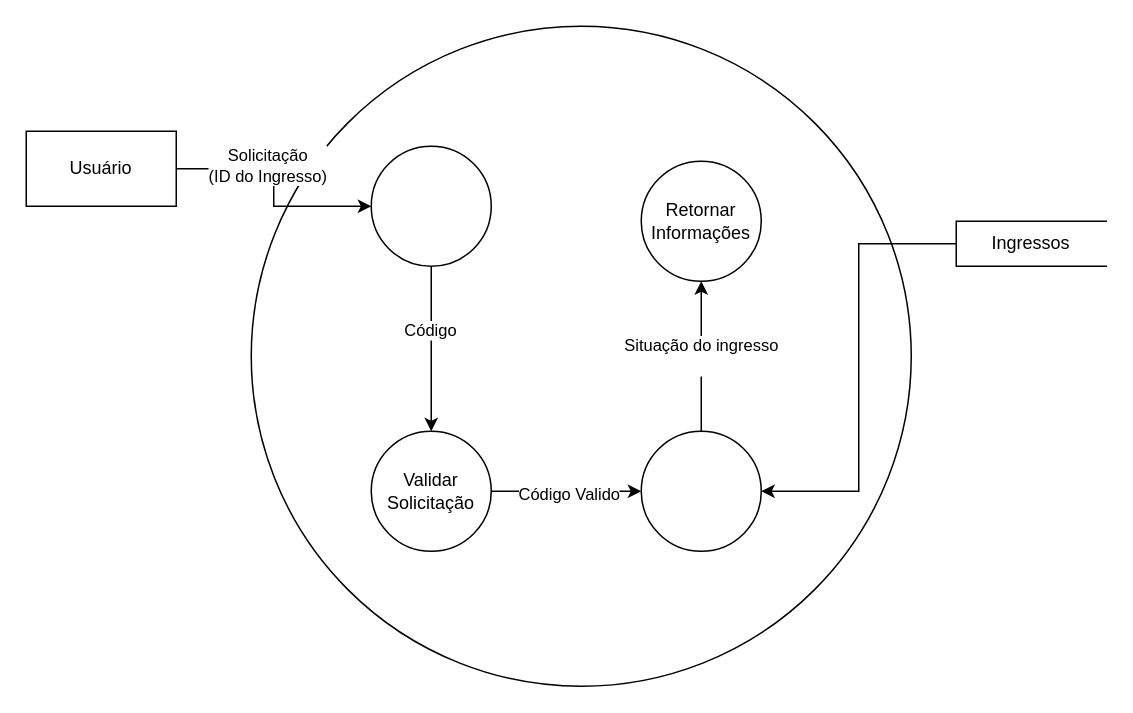
This 1133x713 diagram has some shape labels left out. Here are the shapes that lost their labels. From the top down, the centre of each, then its label:
At (430,205): "Receber Solicitação".
At (700,490): "Consultar no BD".
